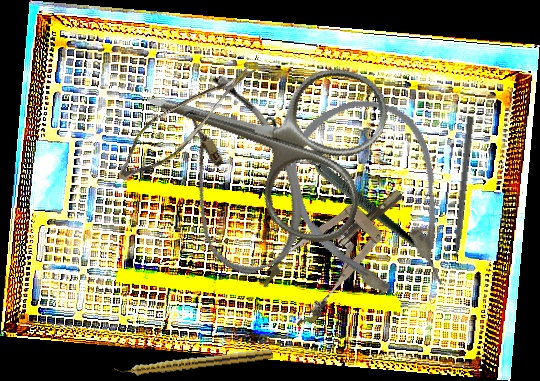Cannula: (268, 81, 477, 324), (148, 64, 325, 285)
Handpiece: (113, 345, 274, 379)
Hook Surgical: (250, 82, 420, 291)
Iris Scissors: (121, 13, 398, 254)
Micro Scissor: (110, 35, 258, 202)
Pusher: (448, 115, 475, 276)
Speculum: (256, 168, 425, 332)
